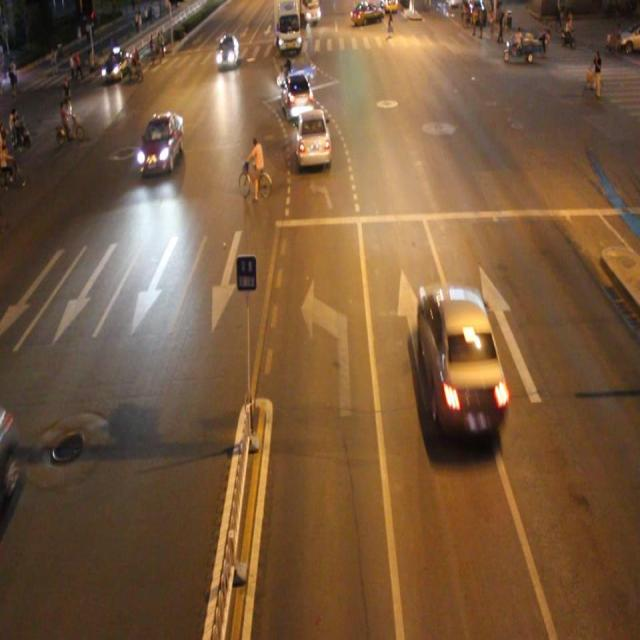car: (418, 287, 505, 434), (137, 110, 184, 173), (295, 104, 334, 164), (280, 67, 316, 119)
